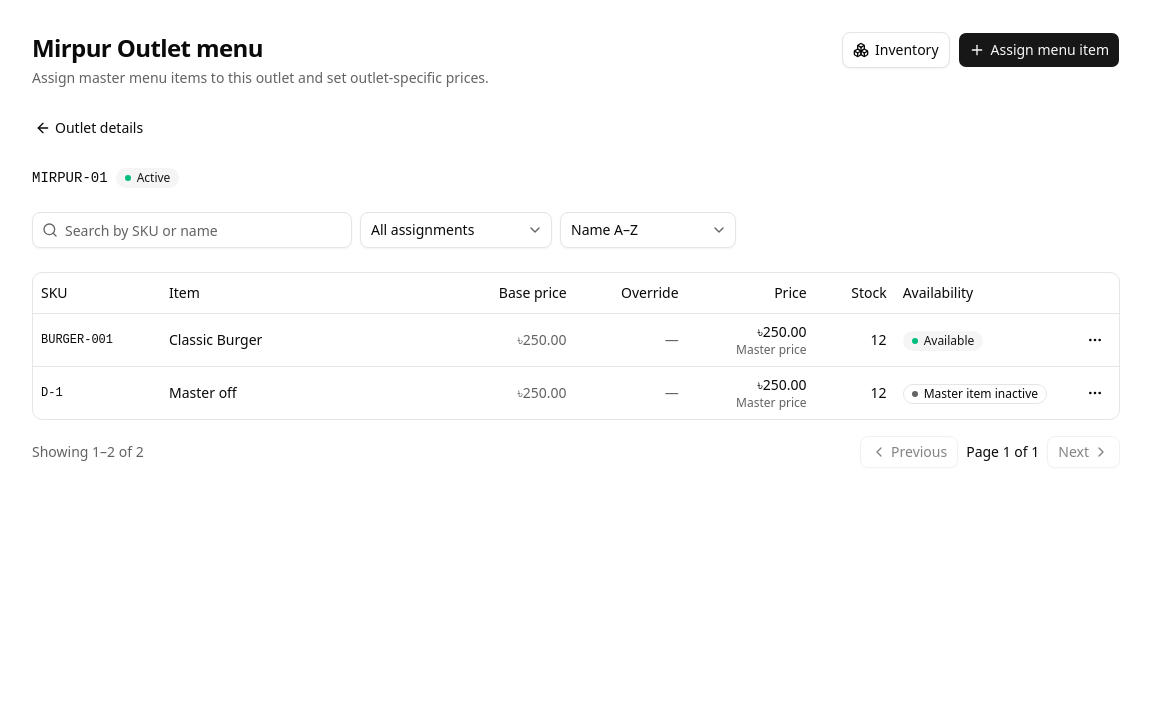
Price overrides and assignment status › confirms deactivation and blocks reactivation under an inactive master item
The width and height of the screenshot is (1152, 720).
Click the button named "Actions for Classic Burger".
click(1095, 340)  # box [1079,324,1111,356]
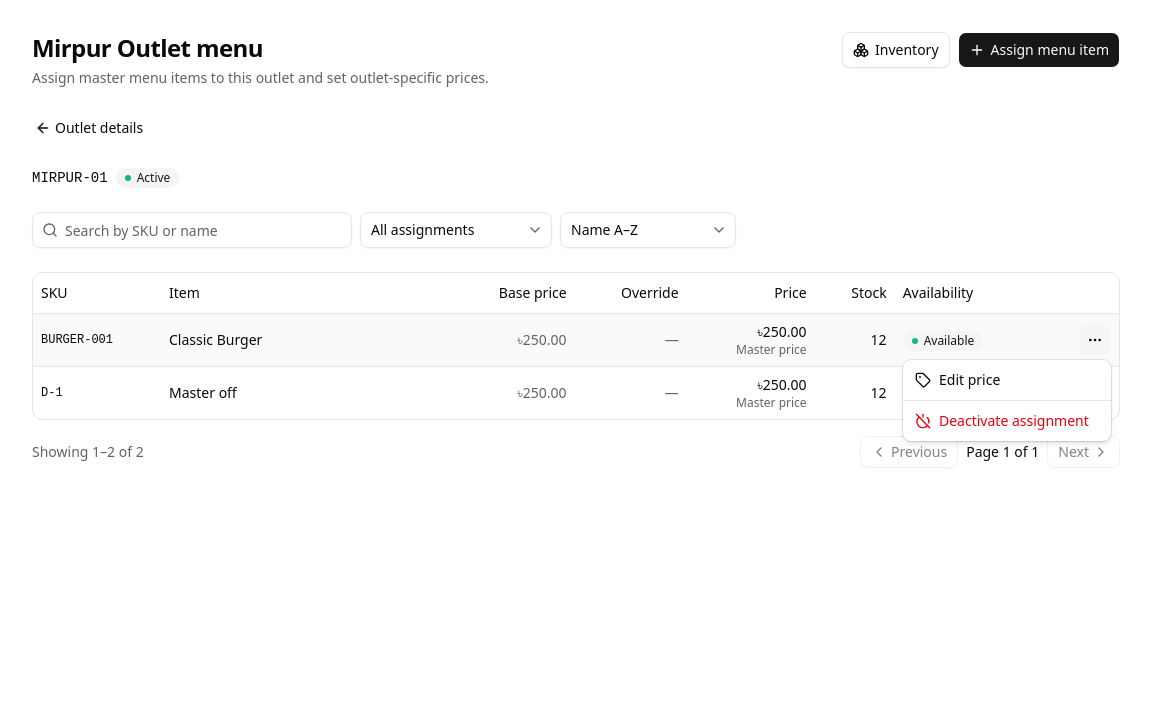
Click the menu item "Deactivate assignment".
click(1002, 420)  # box [915,411,1089,430]
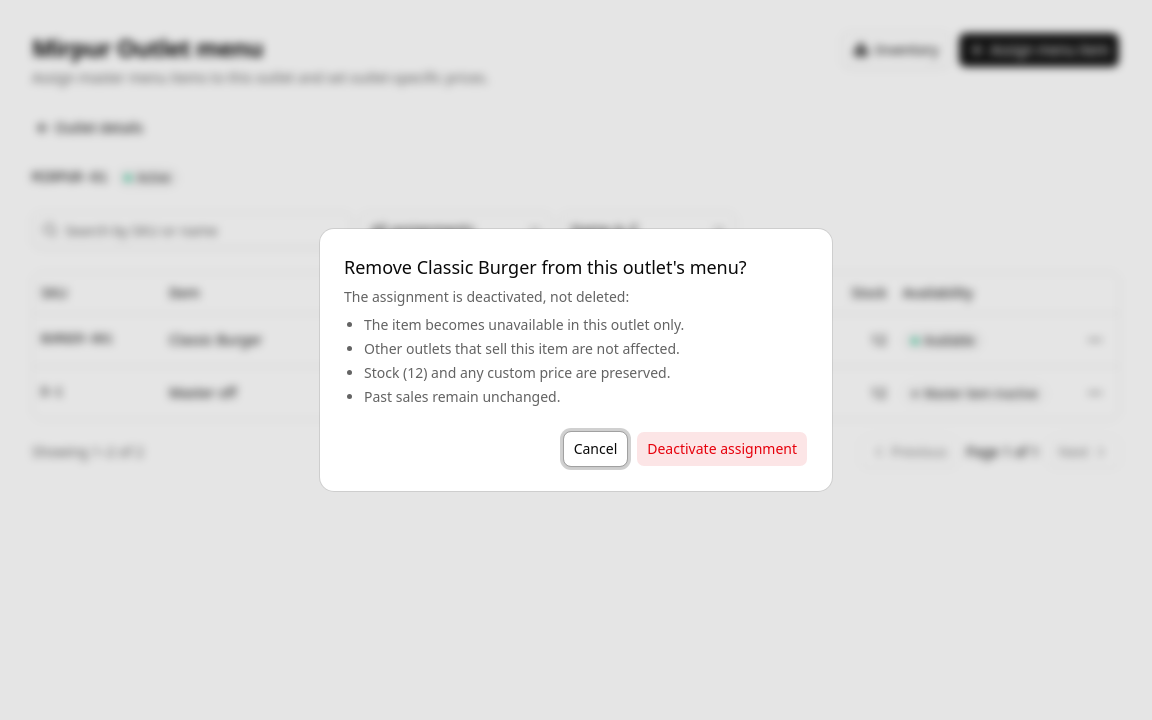
Now the list item "Other outlets that sell this item are not affected." is shown, box [364,339,684,359]
Now the list item "Stock (12) and any custom price are preserved." is shown, box [364,363,684,383]
Click the button "Deactivate assignment".
click(722, 449)  # box [636,431,808,467]
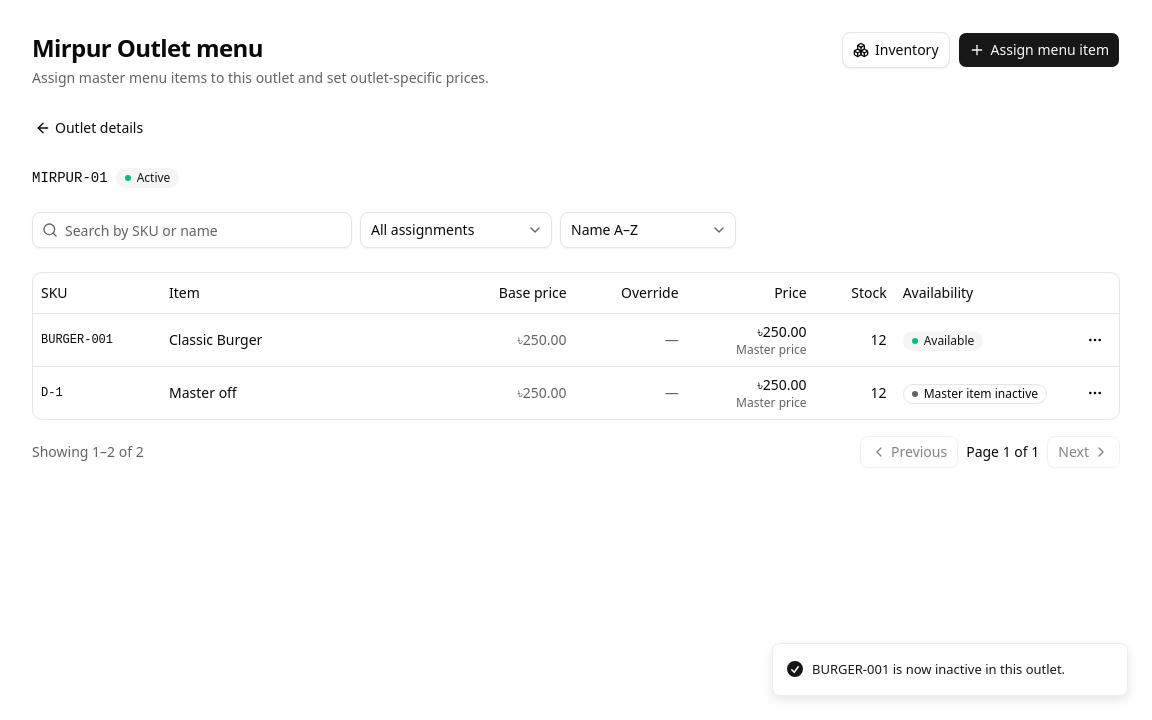
Now the text "BURGER-001 is now inactive in this outlet." is shown, box [812,660,1065,679]
Now the dialog is gone
Click the button named "Actions for Master off".
click(1095, 392)  # box [1079,376,1111,408]
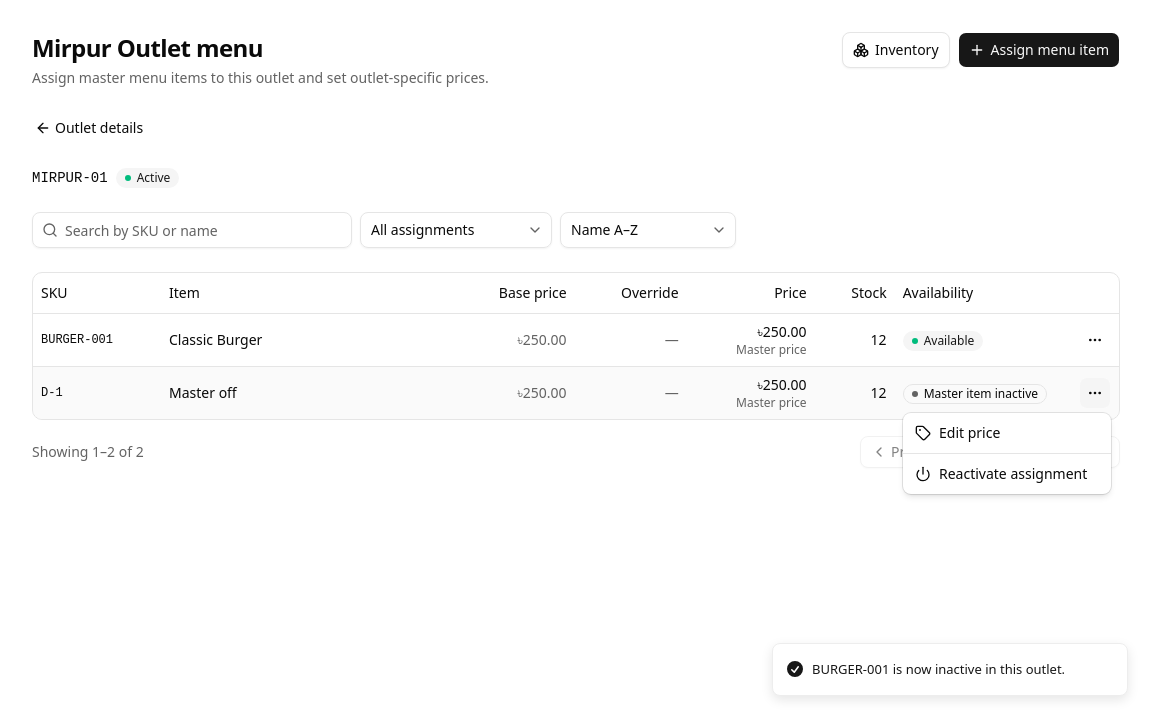
Click the menu item "Reactivate assignment".
click(1001, 474)  # box [915,464,1087,483]
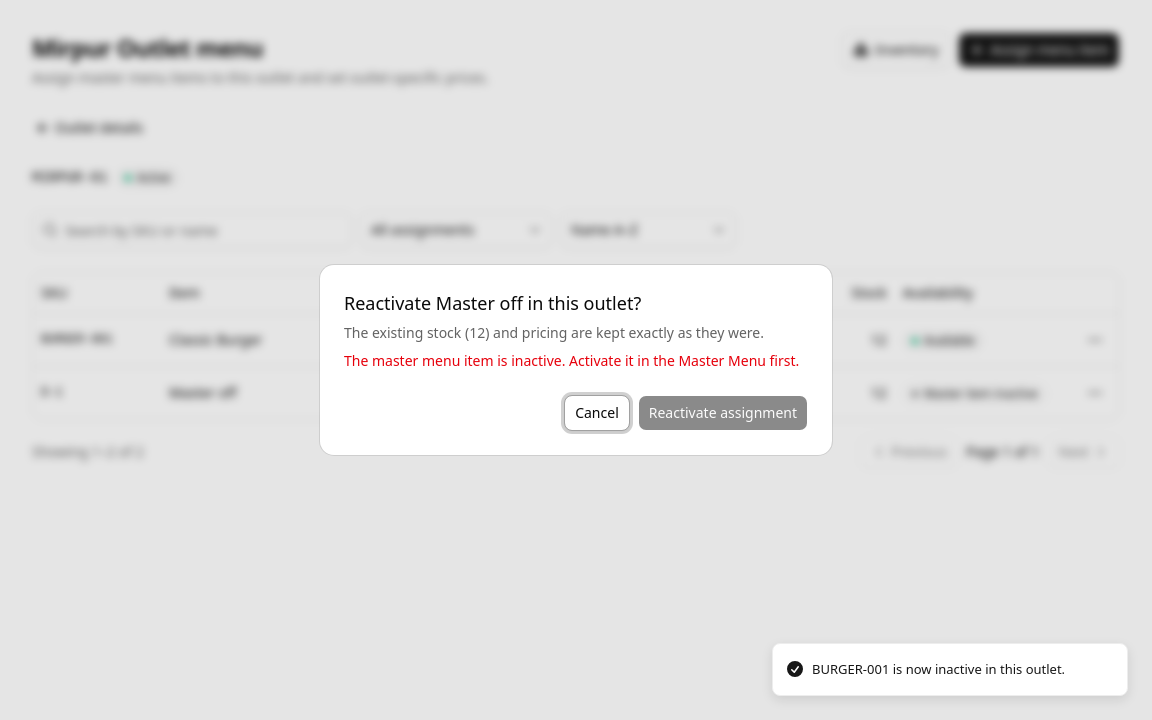
Now the button "Reactivate assignment" is disabled, box [638,395,808,431]
Now the text "master menu item is inactive" is shown, box [344,351,799,370]
